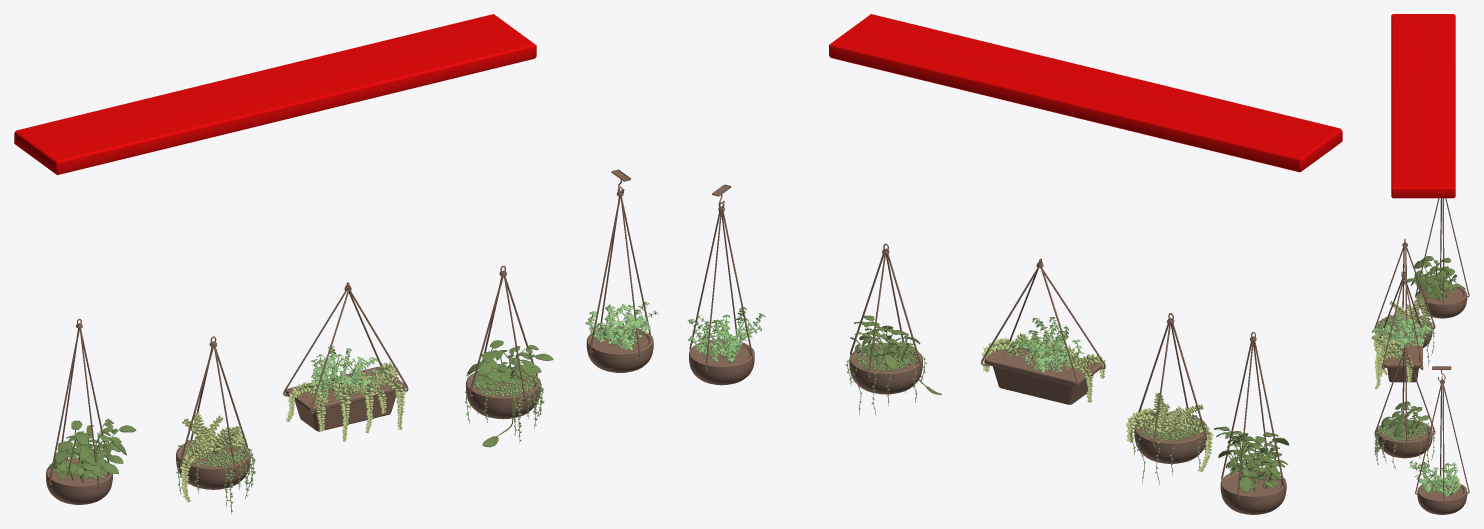
The model's file is greenhouse_hanging_planters.fbx.
3 views of the same model, side by side, from view 1: azimuth 30°, elevation 25°; view 2: azimuth 150°, elevation 25°; view 3: azimuth 270°, elevation 25° (orthographic). The views are drawn at different scales.
Parts seen in each view (by area): view 1: pCube3, hanging_planter_rectangular3, hanging_planter_long_02, pothos_plant_single, burrotail_rectangularbox, hanging_planter_round12, hanging_planter_round10, hanging_planter_long_04, pothos_with_platform, burrotail_single, elephantbush_single, elephantbush_single_02 (+2 smaller); view 2: pCube3, hanging_planter_rectangular3, hanging_planter_long_02, hanging_planter_long_04, hanging_planter_round10, hanging_planter_round12, pothos_plant_single, burrotail_single, elephantbush_single, elephantbush_single_02, pothos_with_platform, burrotail_rectangularbox (+2 smaller); view 3: pCube3, hanging_planter_long_02, hanging_planter_round10, hanging_planter_long_04, hanging_planter_rectangular3, pothos_plant_single, burrotail_rectangularbox, elephantbush_single, elephantbush_single_02, pothos_with_platform, hanging_planter_round12, stringofpearl_01 (+2 smaller).
Boxes of the visible parts, x1,y1,x2,y2 form: pCube3: (14, 14, 536, 175); hanging_planter_rectangular3: (283, 282, 408, 431); hanging_planter_long_02: (586, 186, 653, 372); pothos_plant_single: (47, 419, 136, 483); burrotail_rectangularbox: (285, 362, 405, 441); hanging_planter_round12: (176, 336, 250, 489); hanging_planter_round10: (466, 265, 540, 419); hanging_planter_long_04: (46, 318, 112, 504); pothos_with_platform: (467, 340, 553, 447); burrotail_single: (179, 412, 246, 502); elephantbush_single: (585, 301, 658, 350); elephantbush_single_02: (310, 345, 378, 396); pCube3: (829, 14, 1342, 172); hanging_planter_rectangular3: (981, 258, 1105, 404); hanging_planter_long_02: (689, 202, 754, 385); hanging_planter_long_04: (1220, 332, 1286, 514); hanging_planter_round10: (849, 243, 922, 394); hanging_planter_round12: (1134, 313, 1207, 463); pothos_plant_single: (1214, 426, 1289, 492); burrotail_single: (1126, 392, 1213, 471); elephantbush_single: (687, 306, 765, 363); elephantbush_single_02: (1012, 316, 1083, 372); pothos_with_platform: (850, 315, 941, 394); burrotail_rectangularbox: (982, 330, 1105, 402); pCube3: (1391, 14, 1455, 198); hanging_planter_long_02: (1415, 376, 1469, 514); hanging_planter_round10: (1374, 344, 1435, 458); hanging_planter_long_04: (1415, 198, 1469, 318); hanging_planter_rectangular3: (1382, 271, 1423, 382); pothos_plant_single: (1404, 256, 1465, 301); burrotail_rectangularbox: (1371, 324, 1413, 389); elephantbush_single: (1409, 460, 1461, 496); elephantbush_single_02: (1372, 316, 1431, 348); pothos_with_platform: (1375, 401, 1428, 451); hanging_planter_round12: (1374, 239, 1435, 348); stringofpearl_01: (1374, 419, 1434, 470).
Bounding box in the file's own units: 771 × 453 × 140.
